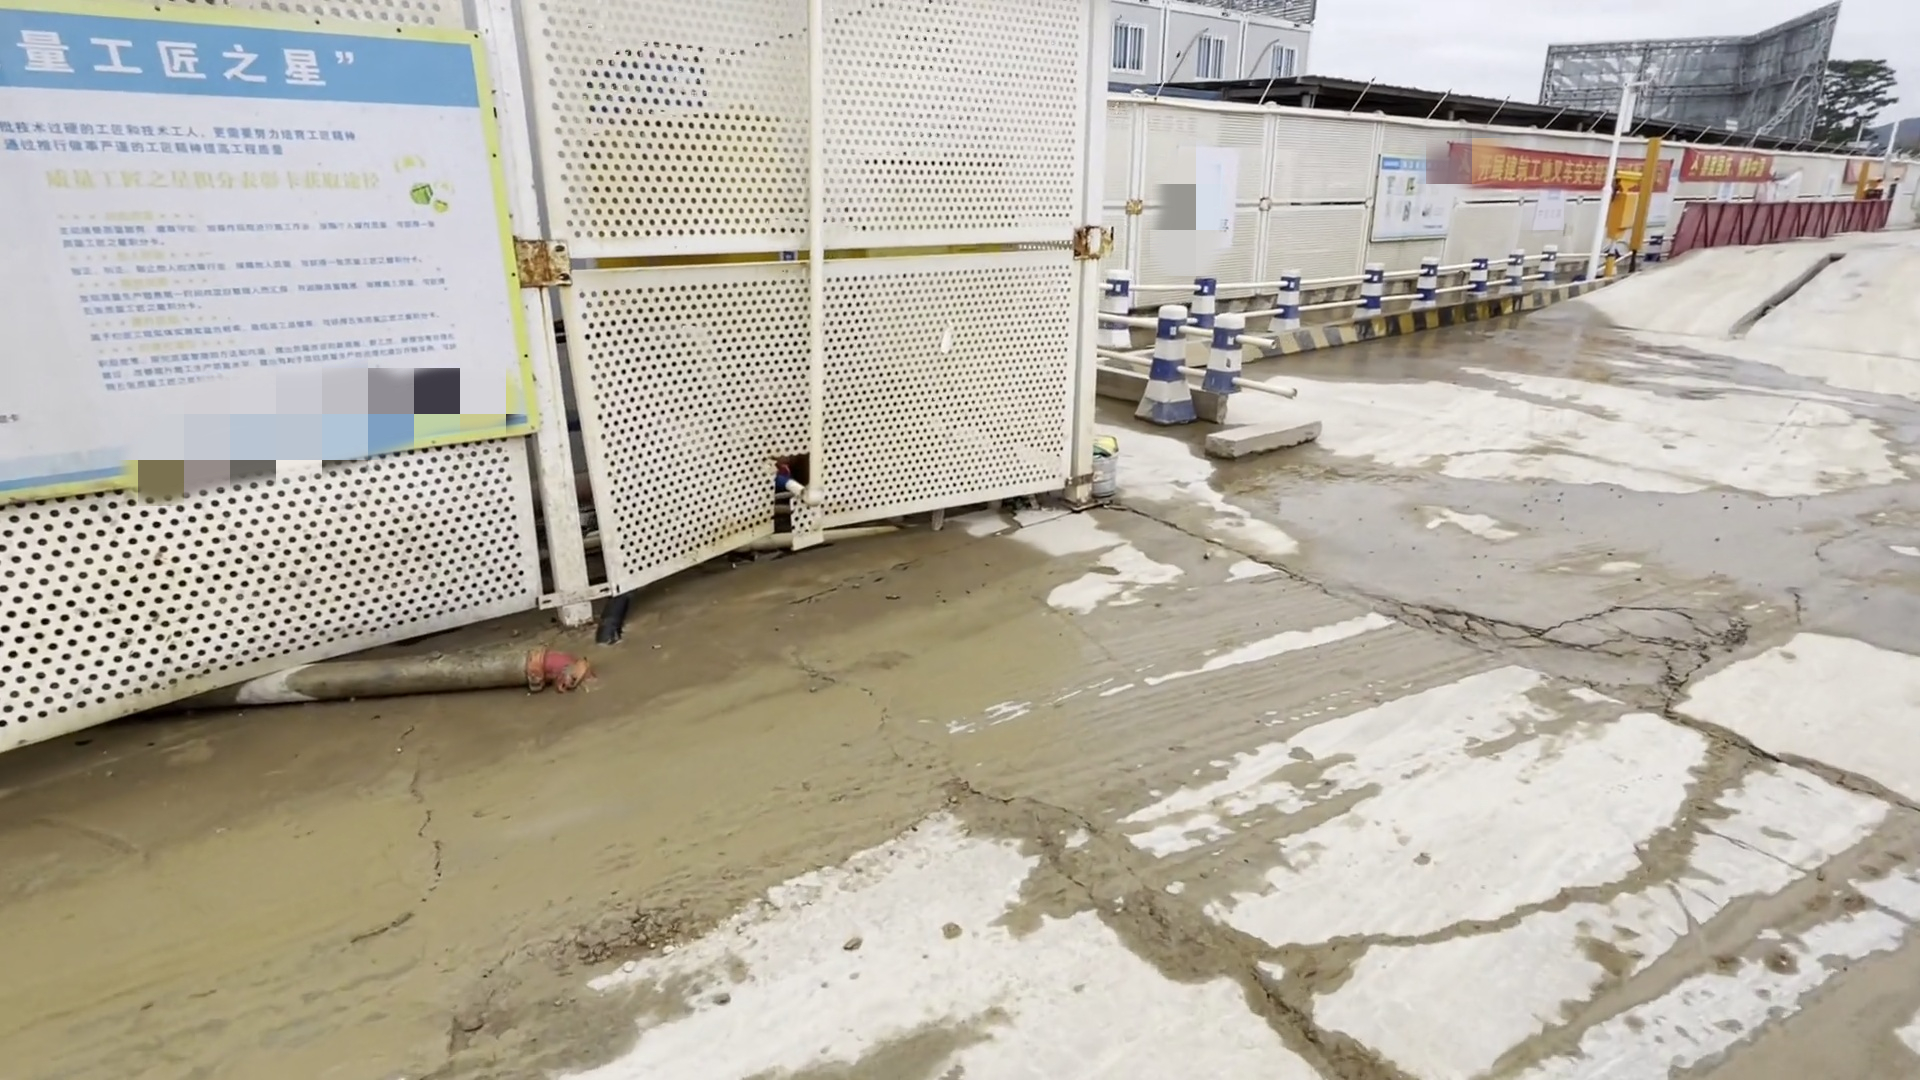slogan: (8, 3, 543, 501), (1455, 152, 1768, 194)
